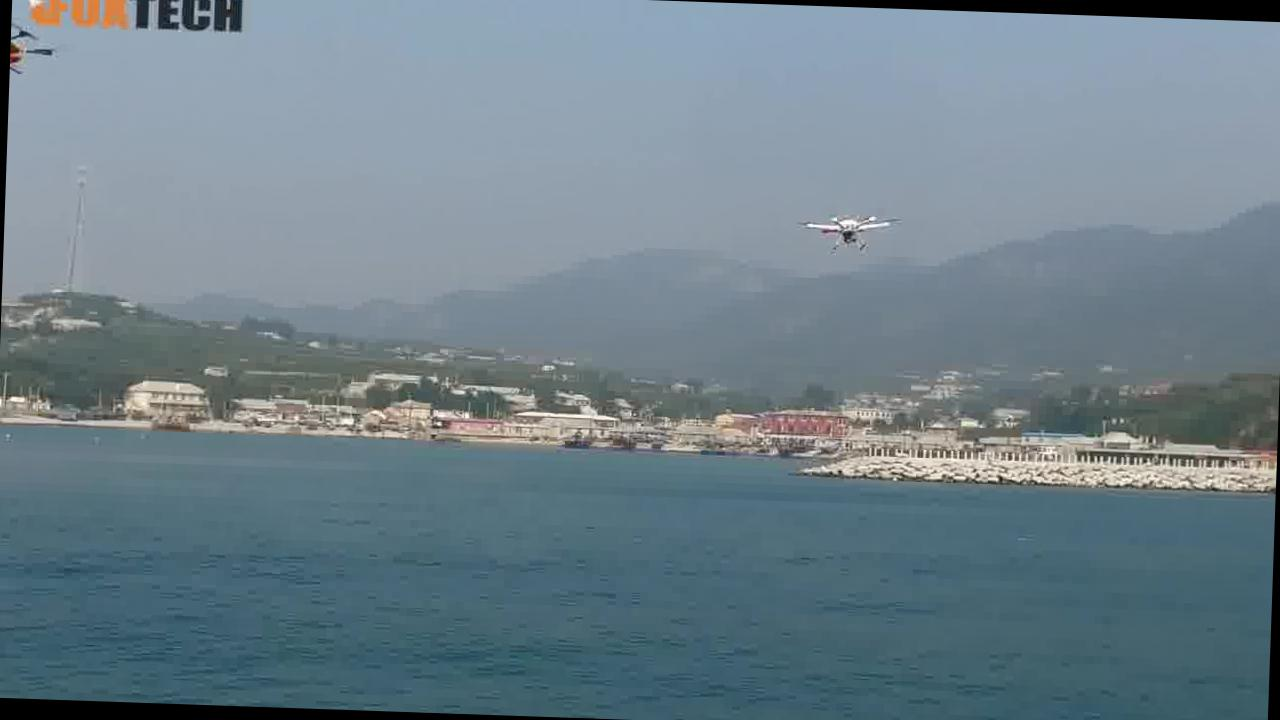drone: (794, 192, 910, 266)
